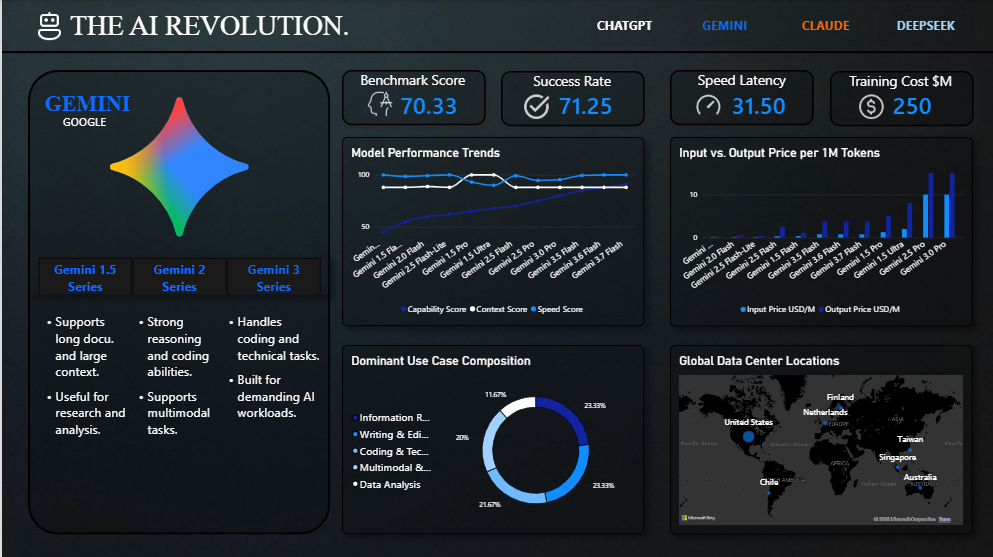

What the dashboard file says about the page in this screenshot:
{"tool":"powerbi","page":{"name":"Page 1","canvas":[1920,1080],"ordinal":0},"visuals":[{"type":"group","id":"g1","title":"buttons","box":[1112.5,10,767.5,80],"z":0},{"type":"actionButton","title":"chatgpt","box":[1112.5,10,185,80],"z":0,"group":"g1"},{"type":"shape","box":[50,135,585,902.5],"z":0,"group":"g2"},{"type":"actionButton","title":"gemini","box":[1306.7,10,185,80],"z":1000,"group":"g1"},{"type":"group","id":"g2","title":"chatgpt","box":[0,16.5,1920,1021.5],"z":1000},{"type":"shape","box":[0,65,1920,70.6],"z":1000,"group":"g2"},{"type":"actionButton","title":"claude","box":[1500.8,10,185,80],"z":2000,"group":"g1"},{"type":"shape","box":[657.5,135,277.5,107.5],"z":2000,"group":"g2"},{"type":"actionButton","title":"deepseek","box":[1695,10,185,80],"z":3000,"group":"g1"},{"type":"shape","box":[966,136,277.5,107.5],"z":3000,"group":"g2"},{"type":"shape","box":[1292.5,135,277.5,107.5],"z":4000,"group":"g2"},{"type":"shape","box":[1602.9,137.1,277.5,107.5],"z":5000,"group":"g2"},{"type":"cardVisual","fields":{"Data":["Avg(Model_Dimension.GPQA_Diamond_Pct)"]},"box":[657.1,145.7,240,110],"z":6000,"group":"g2"},{"type":"slicer","fields":{"Values":["Model_Dimension.Group"]},"box":[50,497.5,585,72.5],"z":7000,"group":"g2"},{"type":"cardVisual","fields":{"Data":["Avg(Model_Dimension.Task_Success_Pct)"]},"box":[958,146,240,110],"z":8000,"group":"g2"},{"type":"cardVisual","fields":{"Data":["Avg(Model_Dimension.Latency_ms)"]},"box":[1292.5,147.5,240,110],"z":9000,"group":"g2"},{"type":"cardVisual","fields":{"Data":["Max(Model_Dimension.Total_Training_Cost_M)"]},"box":[1575,147.5,240,110],"z":10000,"group":"g2"},{"type":"lineChart","title":"Model Performance Trends","fields":{"Category":["Model_Dimension.Model"],"Y":["Avg(Model_Dimension.Capability_Score)","Avg(Model_Dimension.Context_Score)","Avg(Model_Dimension.Speed_Score)"]},"box":[657.5,265,585,367.5],"z":11000,"group":"g2"},{"type":"clusteredColumnChart","title":"Input vs. Output Price per 1M Tokens","fields":{"Category":["Model_Dimension.Model"],"Y":["Sum(Model_Dimension.Input_Price_USD_per_1M)","Sum(Model_Dimension.Output_Price_USD_per_1M)"]},"box":[1292,266,586,368],"z":12000,"group":"g2"},{"type":"donutChart","title":"Dominant Use Case Composition","fields":{"Category":["Usage_Composition.Category"],"Y":["Sum(Usage_Composition.Share_Percent)"]},"box":[657.5,670,585,367.5],"z":13000,"group":"g2"},{"type":"map","title":"Global Data Center Locations","fields":{"Category":["Infrastructure_DataCenters.Country"],"Series":["Infrastructure_DataCenters.Chatbot"],"Size":["Sum(Infrastructure_DataCenters.GW_Capacity)"]},"box":[1292,670,586,368],"z":14000,"group":"g2"},{"type":"image","box":[185,175,315,295],"z":15000,"group":"g2"},{"type":"textbox","box":[67.5,175,195,67.5],"z":16000,"group":"g2"},{"type":"textbox","box":[100,221.4,118.6,40],"z":17000,"group":"g2"},{"type":"textbox","box":[67.5,607.5,177.5,365],"z":18000,"group":"g2"},{"type":"textbox","box":[245,607.5,175,365],"z":19000,"group":"g2"},{"type":"textbox","box":[420,607.5,197.5,365],"z":20000,"group":"g2"},{"type":"image","box":[668.6,174.3,127.1,54.3],"z":21000,"group":"g2"},{"type":"textbox","box":[687.1,135.7,215.7,45.7],"z":22000,"group":"g2"},{"type":"image","box":[966,178,137.5,57.5],"z":23000,"group":"g2"},{"type":"textbox","box":[980,137.5,248,42],"z":24000,"group":"g2"},{"type":"image","box":[1292.5,175.6,137.5,57.5],"z":25000,"group":"g2"},{"type":"textbox","box":[1297.5,135,270,45],"z":26000,"group":"g2"},{"type":"image","box":[1615,177.5,137.5,57.5],"z":27000,"group":"g2"},{"type":"textbox","box":[1601.4,137.1,277.1,44.3],"z":28000,"group":"g2"},{"type":"image","box":[49.5,16.5,83.3,66.7],"z":29000,"group":"g2"},{"type":"textbox","box":[132.5,17.5,572.5,62.5],"z":30000,"group":"g2"}]}

Visuals, with their boxes in screenshot pixels (x1, y1, x2, y2), scaled from the page's 1920x1080 canvas onto the 993x557 screenshot:
"buttons" group: left=575, top=5, right=972, bottom=46
"chatgpt" actionButton: left=575, top=5, right=671, bottom=46
shape: left=26, top=70, right=328, bottom=535
"gemini" actionButton: left=676, top=5, right=771, bottom=46
"chatgpt" group: left=0, top=9, right=992, bottom=535
shape: left=0, top=34, right=992, bottom=70
"claude" actionButton: left=776, top=5, right=872, bottom=46
shape: left=340, top=70, right=484, bottom=125
"deepseek" actionButton: left=877, top=5, right=972, bottom=46
shape: left=500, top=70, right=643, bottom=126
shape: left=668, top=70, right=812, bottom=125
shape: left=829, top=71, right=973, bottom=126
cardVisual - Avg(Model_Dimension.GPQA_Diamond_Pct): left=340, top=75, right=464, bottom=132
slicer - Model_Dimension.Group: left=26, top=257, right=328, bottom=294
cardVisual - Avg(Model_Dimension.Task_Success_Pct): left=495, top=75, right=620, bottom=132
cardVisual - Avg(Model_Dimension.Latency_ms): left=668, top=76, right=793, bottom=133
cardVisual - Max(Model_Dimension.Total_Training_Cost_M): left=815, top=76, right=939, bottom=133
"Model Performance Trends" lineChart: left=340, top=137, right=643, bottom=326
"Input vs. Output Price per 1M Tokens" clusteredColumnChart: left=668, top=137, right=971, bottom=327
"Dominant Use Case Composition" donutChart: left=340, top=346, right=643, bottom=535
"Global Data Center Locations" map: left=668, top=346, right=971, bottom=535
image: left=96, top=90, right=259, bottom=242
textbox: left=35, top=90, right=136, bottom=125
textbox: left=52, top=114, right=113, bottom=135
textbox: left=35, top=313, right=127, bottom=502
textbox: left=127, top=313, right=217, bottom=502
textbox: left=217, top=313, right=319, bottom=502
image: left=346, top=90, right=412, bottom=118
textbox: left=355, top=70, right=467, bottom=94
image: left=500, top=92, right=571, bottom=121
textbox: left=507, top=71, right=635, bottom=93
image: left=668, top=91, right=740, bottom=120
textbox: left=671, top=70, right=811, bottom=93
image: left=835, top=92, right=906, bottom=121
textbox: left=828, top=71, right=972, bottom=94
image: left=26, top=9, right=69, bottom=43
textbox: left=69, top=9, right=365, bottom=41
